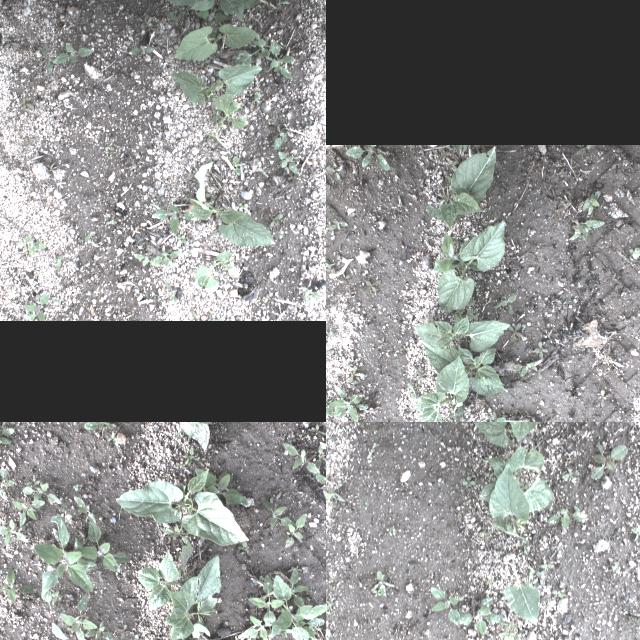crop: (116, 468, 248, 546), (168, 65, 266, 157), (182, 158, 276, 248), (478, 445, 554, 543), (434, 220, 506, 312), (425, 146, 495, 230), (420, 342, 512, 396), (162, 555, 220, 640), (413, 354, 469, 422), (410, 314, 510, 352), (136, 544, 192, 610), (172, 19, 256, 62), (149, 0, 268, 28), (504, 559, 540, 627), (174, 422, 228, 451), (148, 622, 210, 640)
weed: (34, 514, 96, 594), (271, 574, 326, 640), (72, 520, 130, 572), (234, 32, 298, 78), (39, 40, 97, 80), (194, 467, 248, 505), (246, 574, 284, 626), (194, 252, 232, 298), (59, 594, 97, 640), (456, 598, 504, 634), (328, 382, 370, 420), (590, 441, 628, 479), (40, 589, 67, 640), (0, 567, 37, 602), (282, 442, 320, 476), (430, 588, 462, 626), (344, 146, 390, 170), (150, 202, 180, 238), (19, 288, 51, 320), (546, 506, 588, 530), (260, 497, 292, 528), (11, 497, 44, 527), (289, 566, 309, 612), (568, 220, 606, 242), (160, 522, 192, 548), (0, 518, 28, 546), (21, 483, 60, 503), (242, 614, 271, 640), (125, 250, 161, 270), (17, 232, 47, 256), (286, 512, 306, 548), (271, 150, 299, 174), (72, 496, 96, 524), (294, 618, 324, 640), (84, 619, 114, 640), (370, 572, 394, 596), (154, 250, 184, 268), (493, 294, 517, 314), (0, 466, 14, 500), (0, 423, 14, 457), (582, 190, 600, 216), (270, 121, 286, 149), (126, 42, 158, 56), (130, 10, 152, 30), (163, 282, 179, 308), (498, 622, 521, 640), (80, 228, 100, 248), (164, 7, 186, 25), (228, 153, 244, 177), (17, 95, 39, 112), (0, 37, 22, 54), (298, 285, 320, 301), (275, 0, 315, 8), (507, 322, 523, 342), (345, 366, 365, 382), (182, 446, 198, 466), (314, 444, 326, 470), (49, 253, 67, 269), (515, 362, 535, 376), (362, 280, 382, 294), (314, 473, 326, 496), (326, 164, 342, 180), (100, 141, 118, 155), (596, 390, 610, 408), (572, 145, 596, 155), (60, 505, 72, 525), (560, 466, 578, 479), (83, 422, 112, 430), (116, 624, 130, 640), (460, 474, 476, 488), (535, 341, 547, 359), (628, 608, 640, 626), (629, 240, 640, 259), (487, 411, 505, 422), (326, 490, 344, 501), (451, 144, 467, 156), (532, 570, 544, 586), (364, 444, 376, 460), (630, 522, 640, 541), (326, 395, 335, 416), (310, 423, 326, 434), (410, 364, 422, 378), (106, 432, 118, 446), (268, 214, 284, 224), (24, 480, 40, 490), (530, 367, 542, 379), (274, 630, 292, 638), (436, 149, 450, 159), (332, 220, 346, 230), (239, 539, 249, 553), (51, 590, 61, 604), (326, 346, 334, 363), (7, 422, 24, 430), (326, 218, 337, 230), (336, 273, 349, 283), (407, 383, 415, 399), (538, 562, 554, 570), (465, 308, 477, 318), (376, 336, 386, 348), (326, 601, 335, 613), (550, 591, 566, 597), (448, 159, 457, 169), (326, 323, 332, 337), (482, 528, 488, 542), (72, 483, 82, 491), (611, 564, 619, 574), (318, 632, 326, 640), (522, 546, 530, 554), (106, 219, 116, 225), (362, 500, 368, 510), (374, 590, 381, 598), (326, 262, 333, 269), (556, 549, 562, 557), (516, 624, 522, 632), (391, 526, 395, 536), (386, 526, 390, 536), (486, 580, 492, 586), (134, 635, 139, 640), (521, 633, 527, 637), (487, 474, 491, 480)
